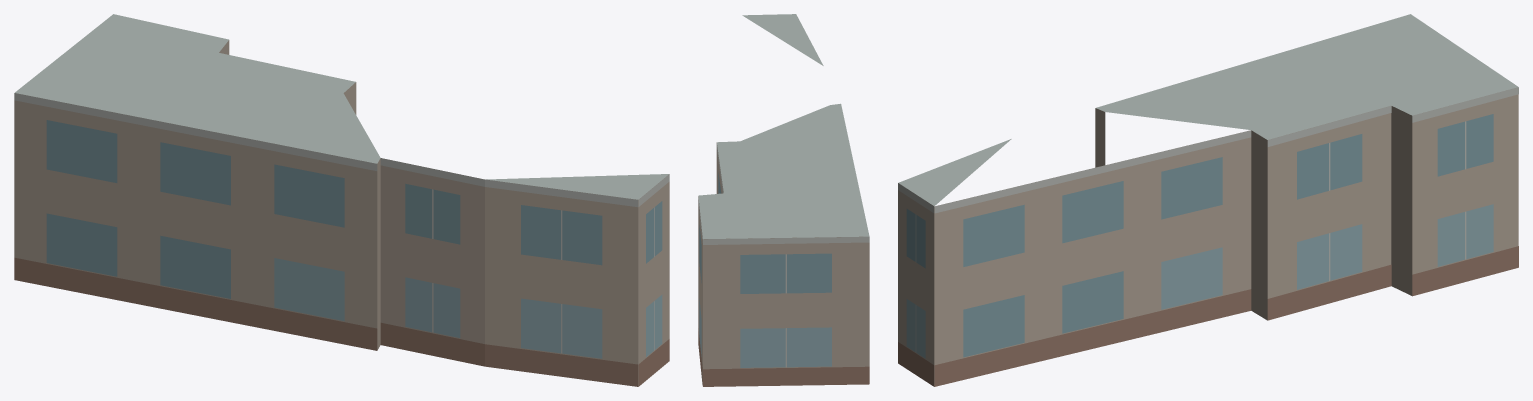
File: survey-upis-32594365.glb
3 renders of one model, left to right at view 1: azimuth 30°, elevation 25°; view 2: azimuth 150°, elevation 25°; view 3: azimuth 270°, elevation 25°, orthographic. The views are drawn at different scales.
Parts seen in each view (by area): view 1: survey-upis-32594365.tmp; view 2: survey-upis-32594365.tmp; view 3: survey-upis-32594365.tmp.
Boxes of the visible parts, x1,y1,x2,y2 form: survey-upis-32594365.tmp: (14,14,669,386); survey-upis-32594365.tmp: (698,14,869,386); survey-upis-32594365.tmp: (898,14,1518,386).
Bounding box in the file's own units: 13.95 × 6.1 × 19.02.
